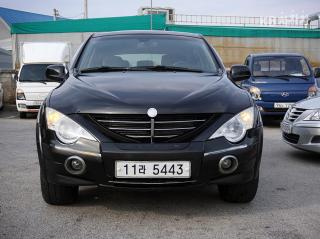1: (131, 163, 139, 176), (123, 163, 130, 175)
3: (176, 163, 185, 175)
4: (160, 163, 168, 175), (169, 163, 176, 175)
5: (152, 163, 160, 176)
라: (138, 164, 147, 175)
